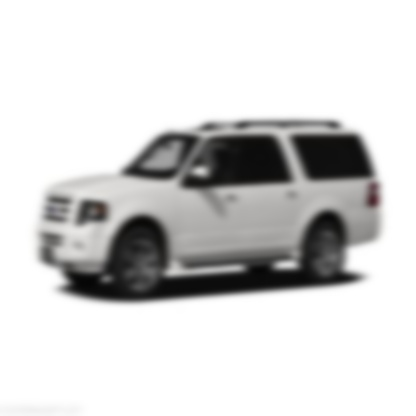Vehicle: (36, 119, 382, 302)
